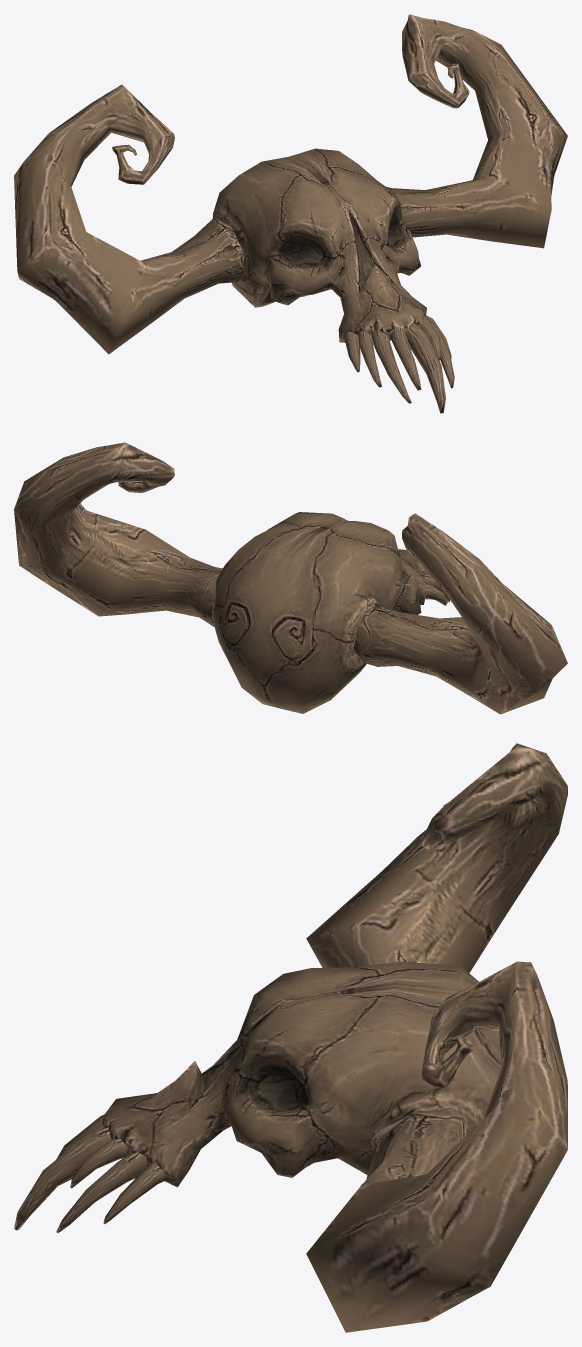
File: Skull.fbx
3 renders of one model, top to bottom at view 1: azimuth 30°, elevation 25°; view 2: azimuth 150°, elevation 25°; view 3: azimuth 270°, elevation 25°, orthographic. The views are drawn at different scales.
Parts seen in each view (by area): view 1: node_id37; view 2: node_id37; view 3: node_id37.
Boxes of the visible parts, x1,y1,x2,y2 form: node_id37: (14, 14, 567, 413); node_id37: (14, 442, 567, 714); node_id37: (14, 743, 567, 1332).
Size of the model in its own units: 0.512 by 0.2163 by 0.2932.
Materials: 1 (1 with a texture image).
